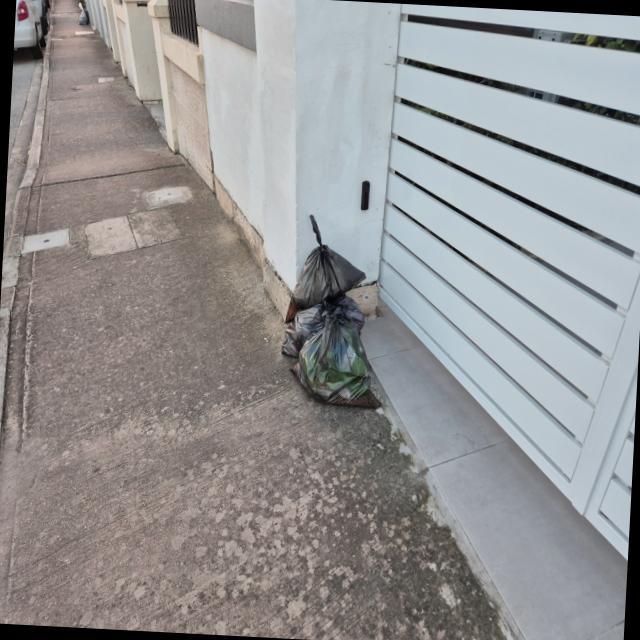black_bag: (287, 304, 408, 426), (277, 199, 372, 315)
